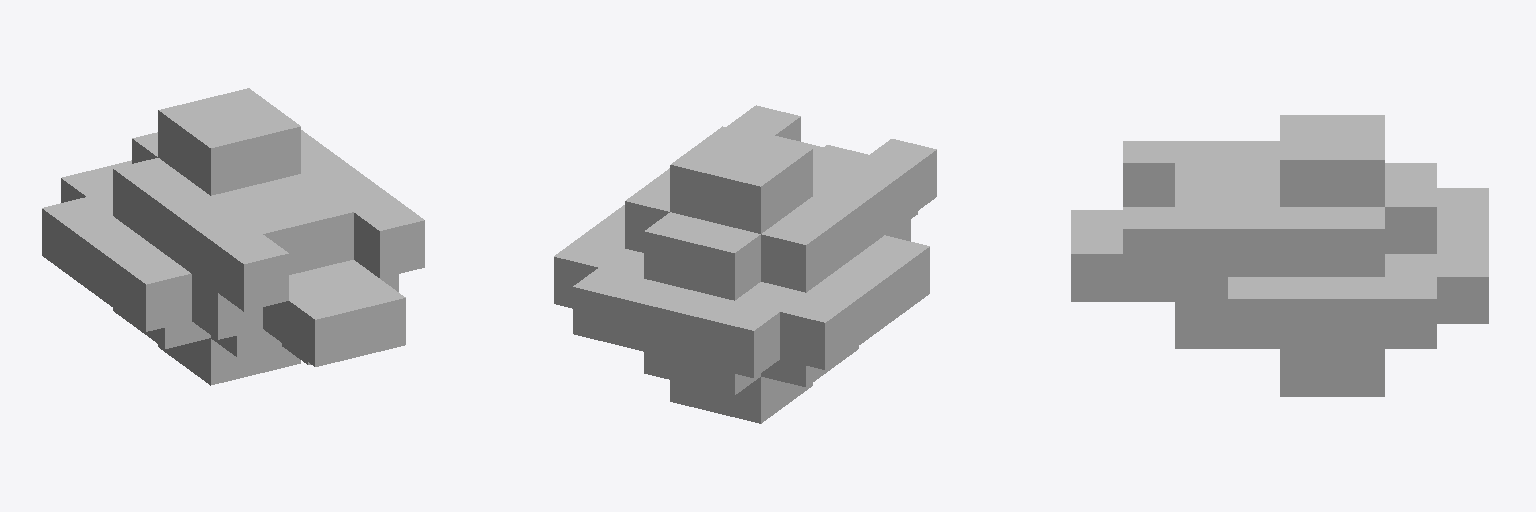
File: MageBullet.obj
3 views of the same model, side by side, from view 1: azimuth 30°, elevation 25°; view 2: azimuth 150°, elevation 25°; view 3: azimuth 270°, elevation 25° (orthographic).
Visible parts, largest first — view 1: Cube.053_Cube.056; view 2: Cube.053_Cube.056; view 3: Cube.053_Cube.056.
Part boxes in pixels (x1,y1,x2,y2): Cube.053_Cube.056: (42, 88, 424, 385); Cube.053_Cube.056: (554, 105, 936, 423); Cube.053_Cube.056: (1071, 115, 1488, 396).
Bounding box in the file's own units: 6 × 5 × 8.